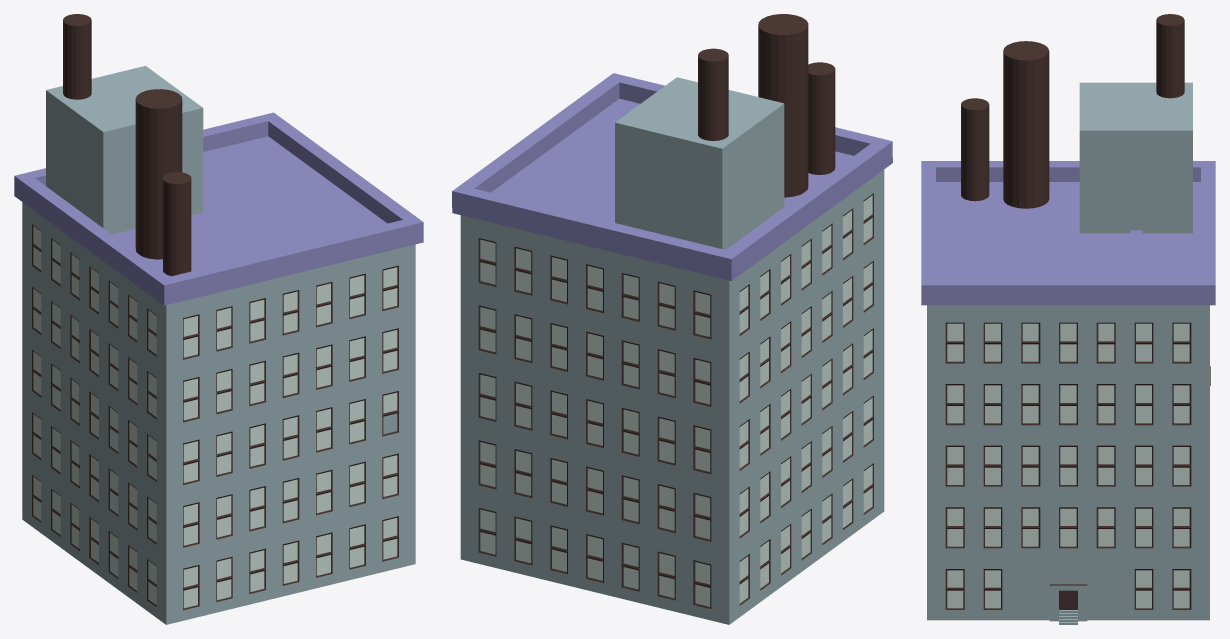
The model's file is skyscraper5.fbx.
3 renders of one model, left to right at view 1: azimuth 30°, elevation 25°; view 2: azimuth 150°, elevation 25°; view 3: azimuth 270°, elevation 25°, orthographic. The views are drawn at different scales.
Parts seen in each view (by area): view 1: Building_5; view 2: Building_5; view 3: Building_5.
Part boxes in pixels (x1,y1,x2,y2): Building_5: (14, 14, 423, 624); Building_5: (452, 14, 892, 624); Building_5: (921, 14, 1215, 624).
Bounding box in the file's own units: 53 × 96.88 × 52.
